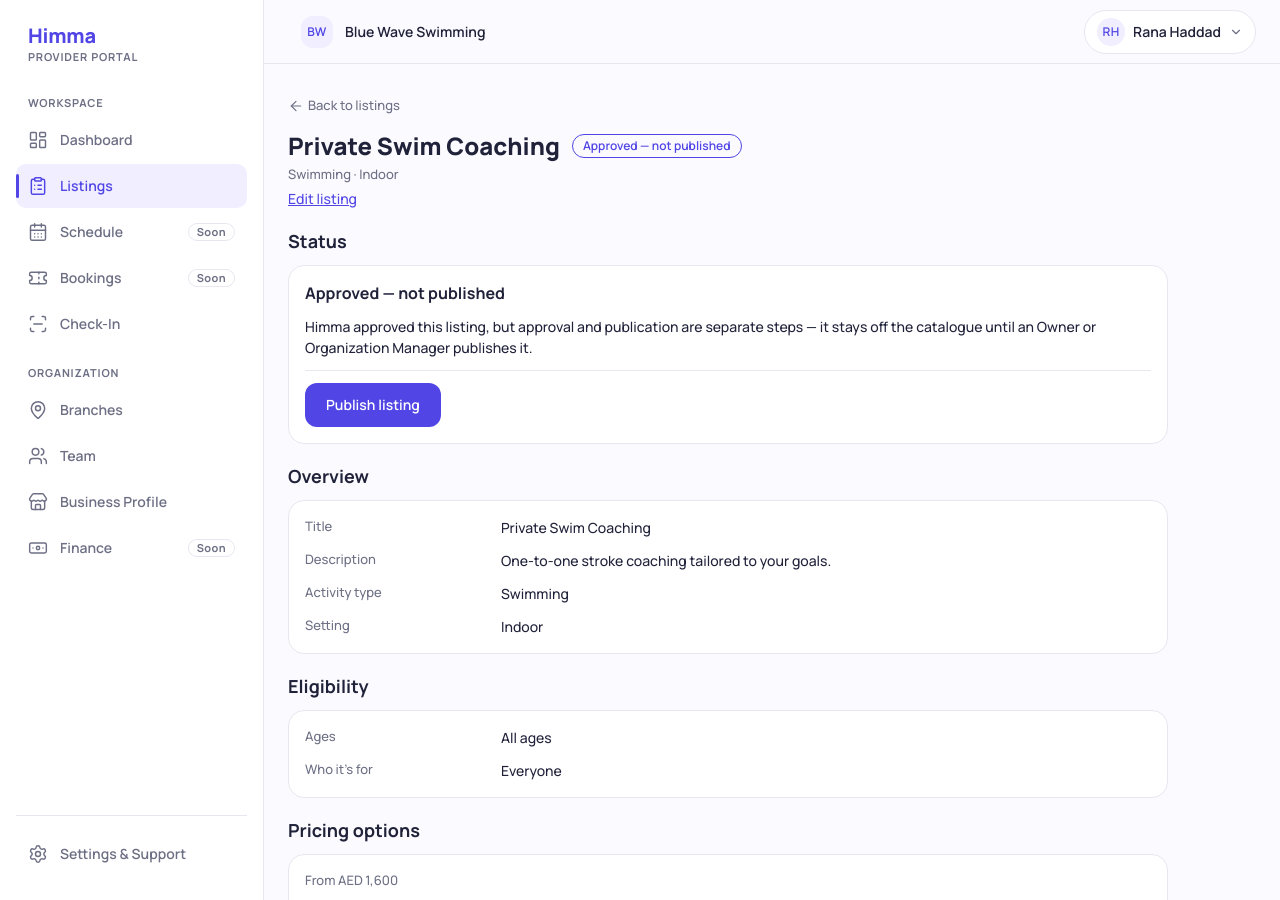
Test: listing lifecycle UX — publication authority (W2-9) › approved ≠ published: the Owner sees the separation stated and an explicit Publish action; publishing announces and flips the chip
The image size is (1280, 900).
Expected: the heading "Private Swim Coaching" is shown, [288, 130, 560, 160]
Expected: the 1st text "Approved — not published" is shown, [572, 134, 742, 158]
Click the button "Publish listing" at (373, 404), box [305, 382, 441, 426]
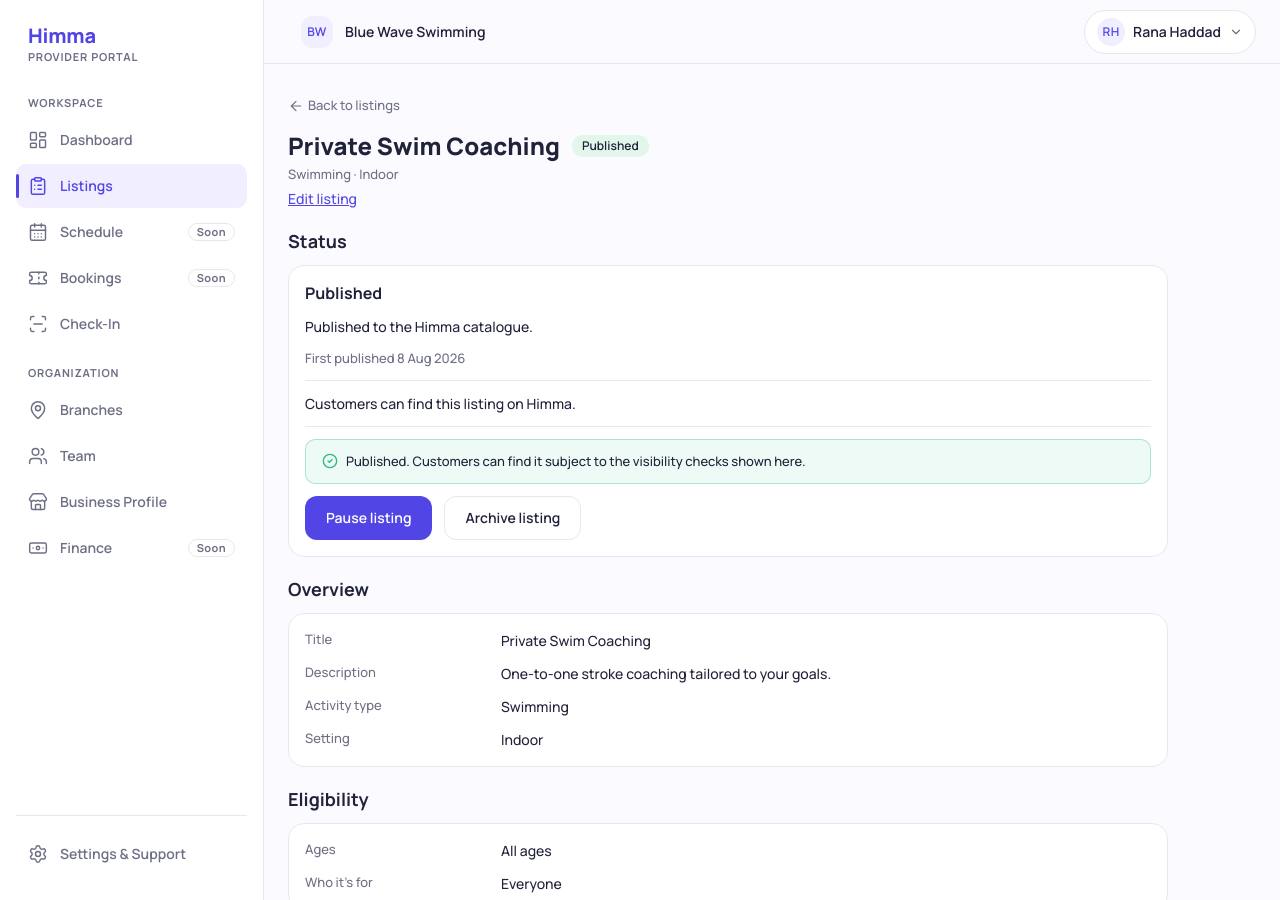
Expected: the 1st text "Published" is shown, [572, 134, 649, 156]
Result: the text "Published. Customers can find it subject to the visibility checks" is shown at [346, 452, 806, 470]
